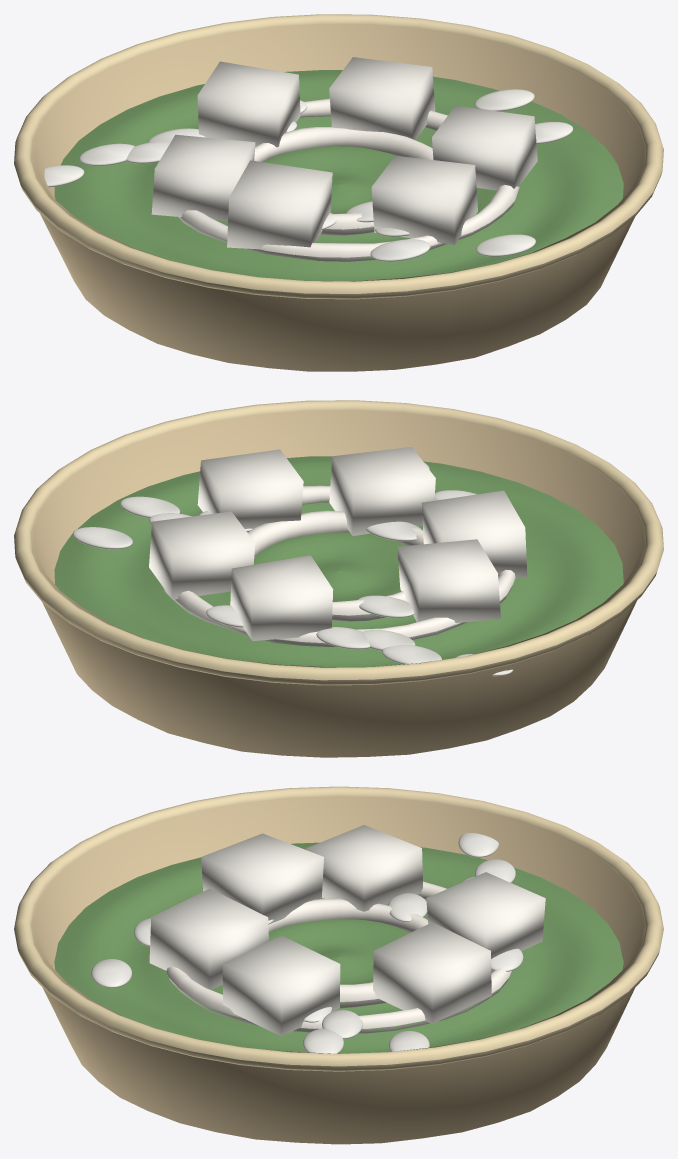
The model's file is palak-paneer.glb.
3 views of the same model, one above another, from view 1: azimuth 30°, elevation 25°; view 2: azimuth 150°, elevation 25°; view 3: azimuth 270°, elevation 25° (orthographic).
Bounding box in the file's own units: 0.286 × 0.0738 × 0.286.
